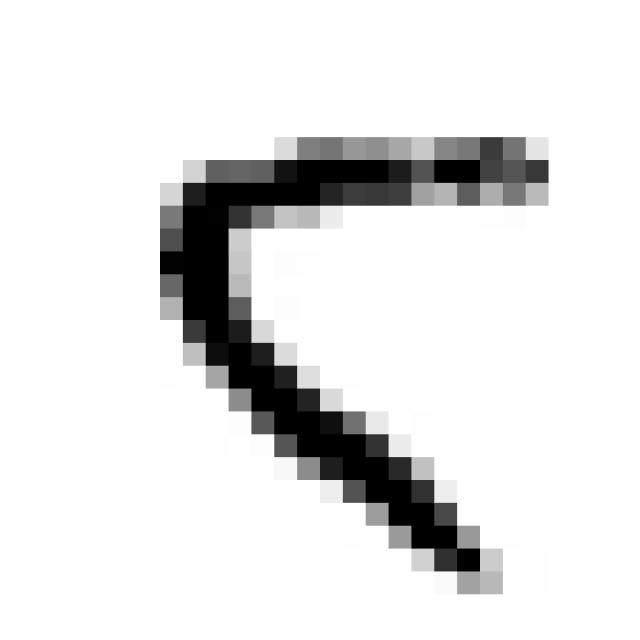2 -two-: (135, 112, 571, 612)
